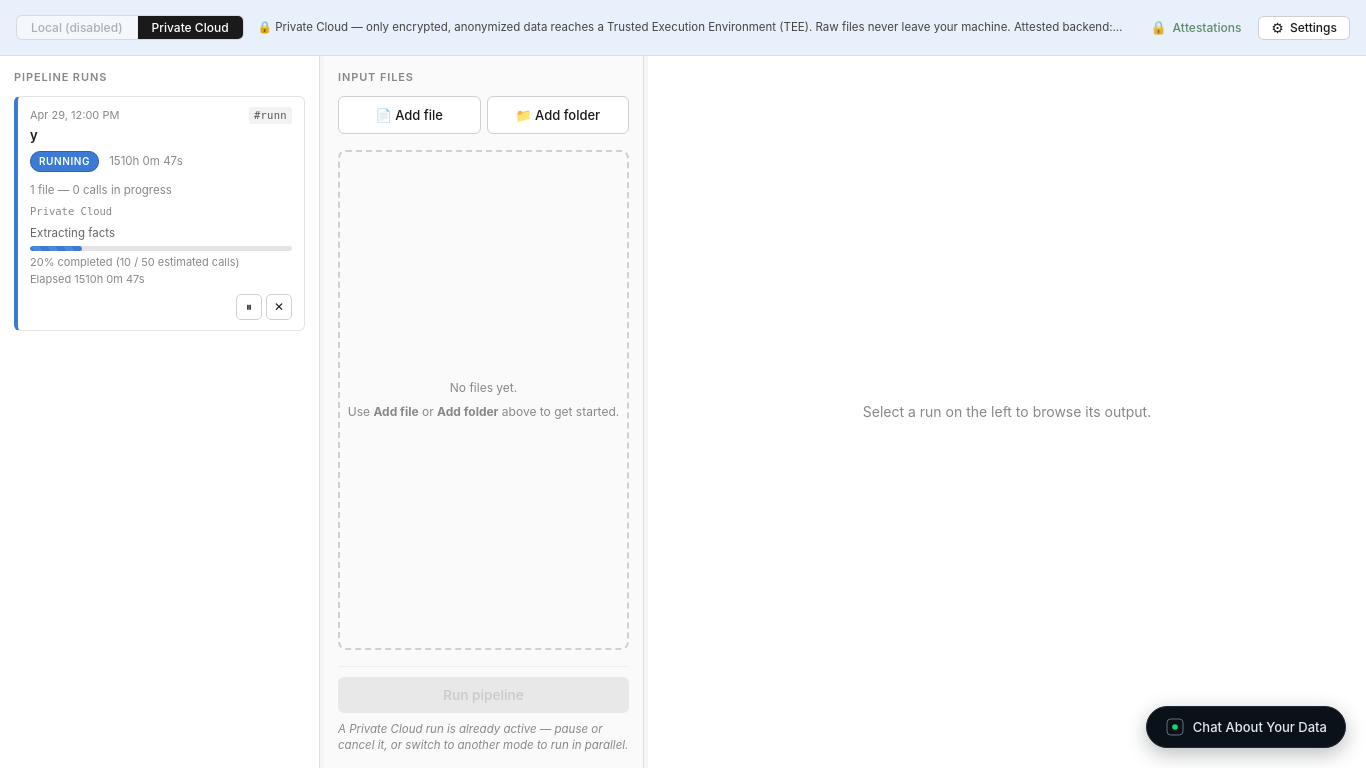
Test: App — concurrent click + refresh (issue #54) › clicking a run row reliably selects it even with an active poll
This screenshot has width=1366, height=768.
Expected: the text "Pipeline runs" is shown, [14,70,107,86]
Expected: the text "Input files" is shown, [338,70,414,86]
Press the mouse on the list item "Running" at coordinates (160, 213), box [14,96,305,331]
Click the list item "Running" at coordinates (160, 213), box [14,96,305,331]
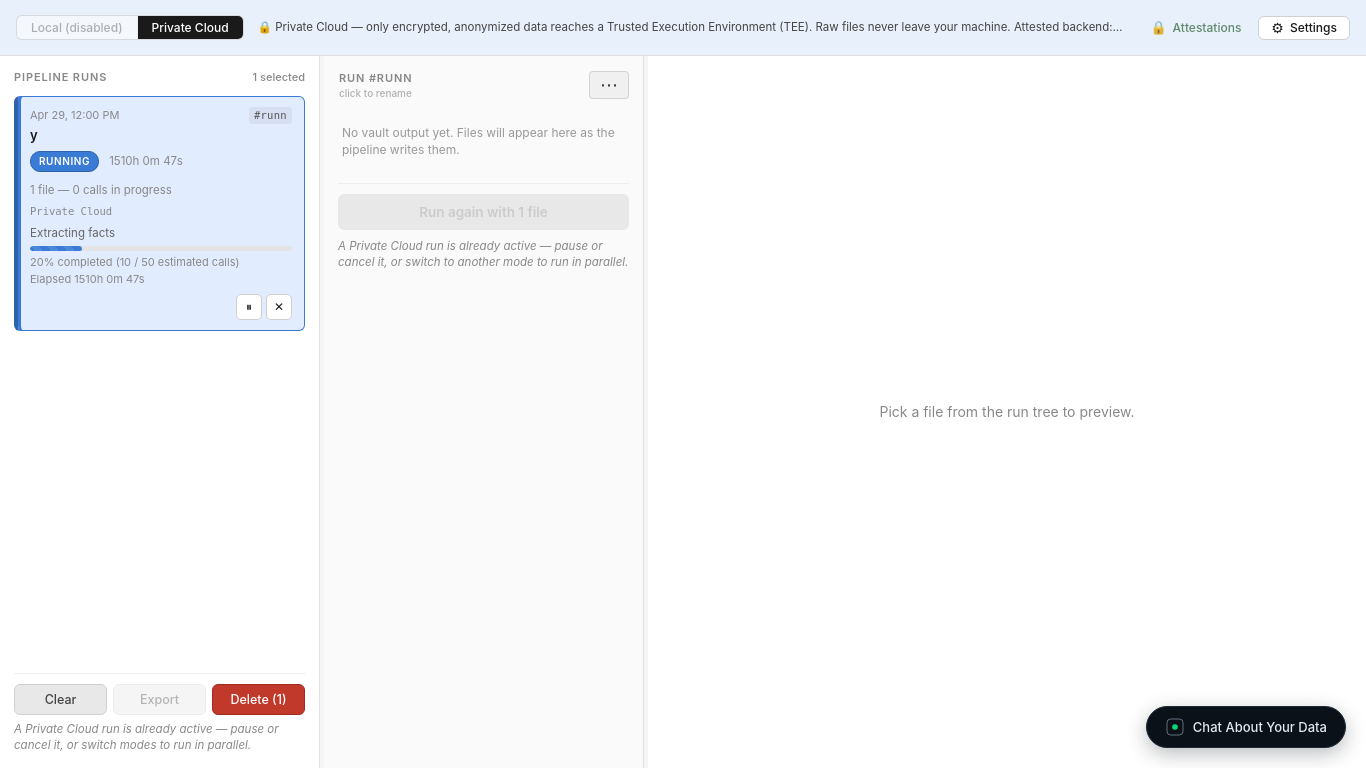
Now the button "Run again with 1 file" is shown, box [338,194,629,230]
